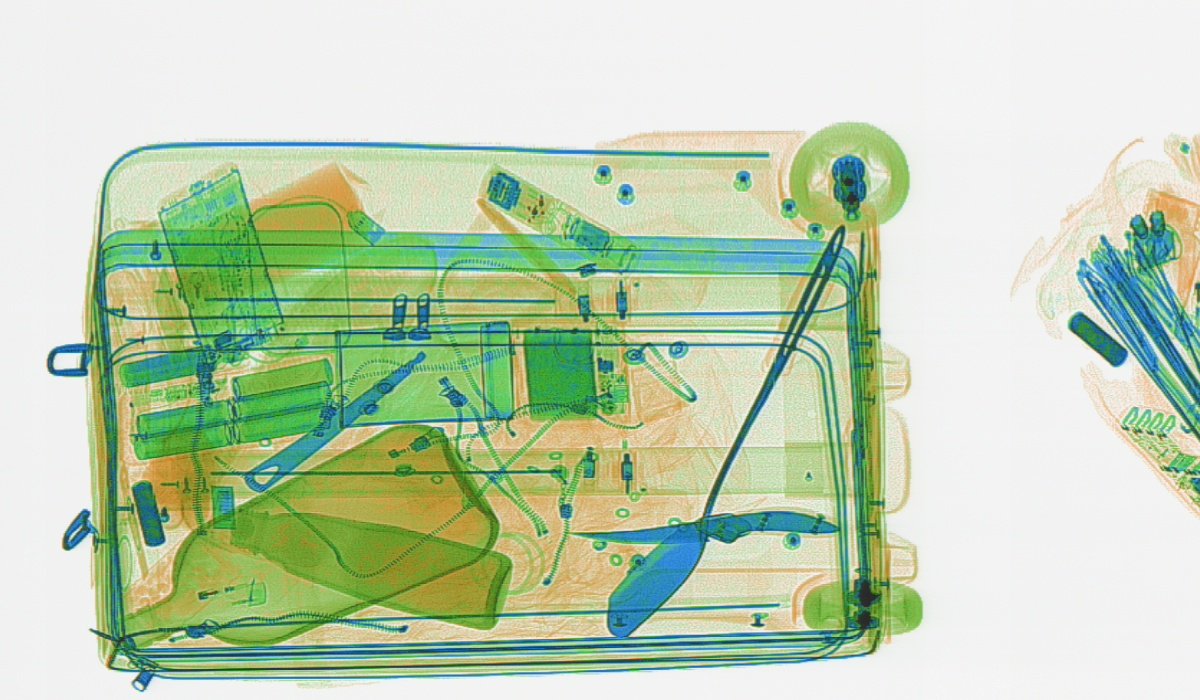knife: (564, 505, 843, 545)
lighter: (153, 577, 267, 618)
powerbank: (119, 347, 343, 470)
